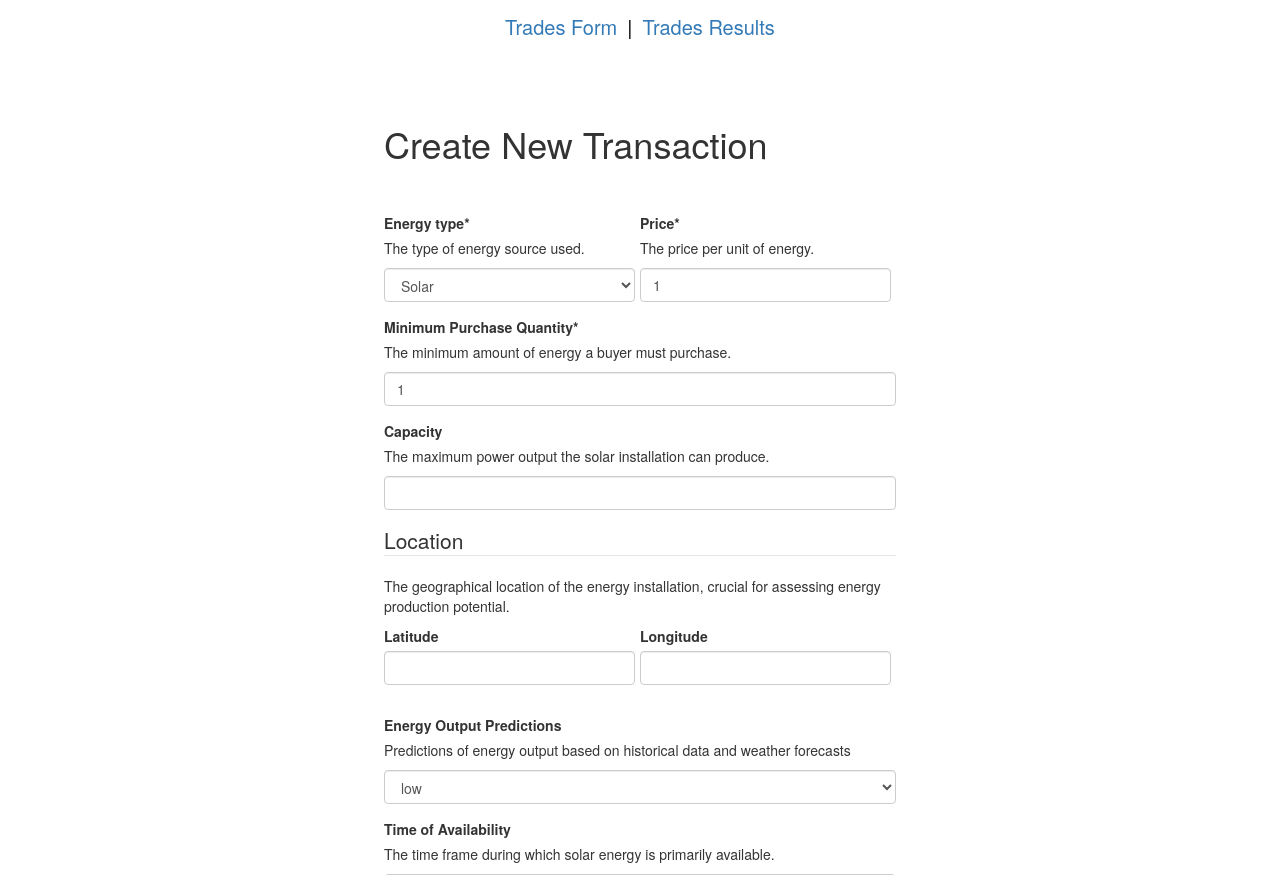
Test: <App /> › navigates to trades details route when '/trades/details/:id' is visited
Click the link "Trades Results" at {"x": 709, "y": 27}, box [642,12,775,41]
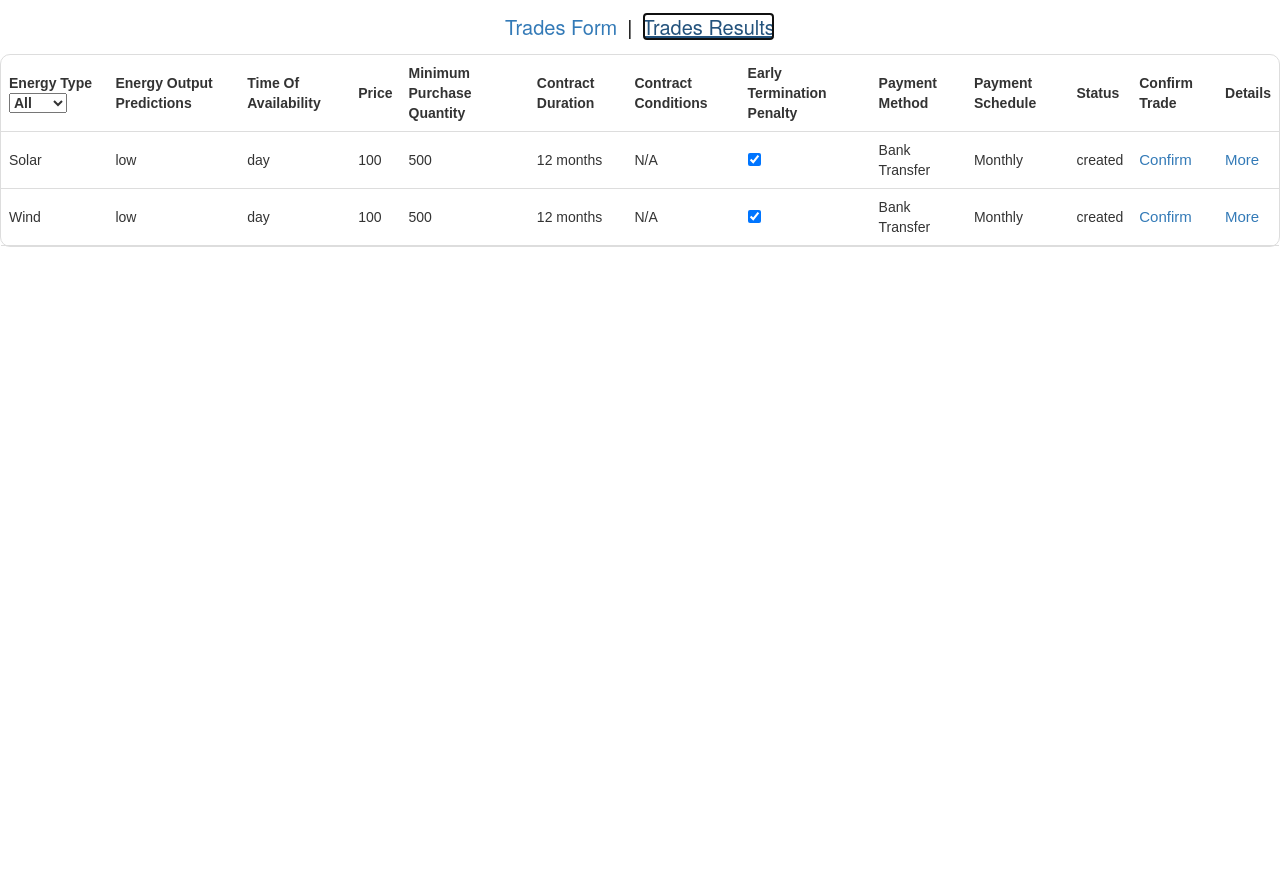
Click the link "More" in the row of "Solar" at {"x": 1242, "y": 159}, box [1225,151,1259,168]
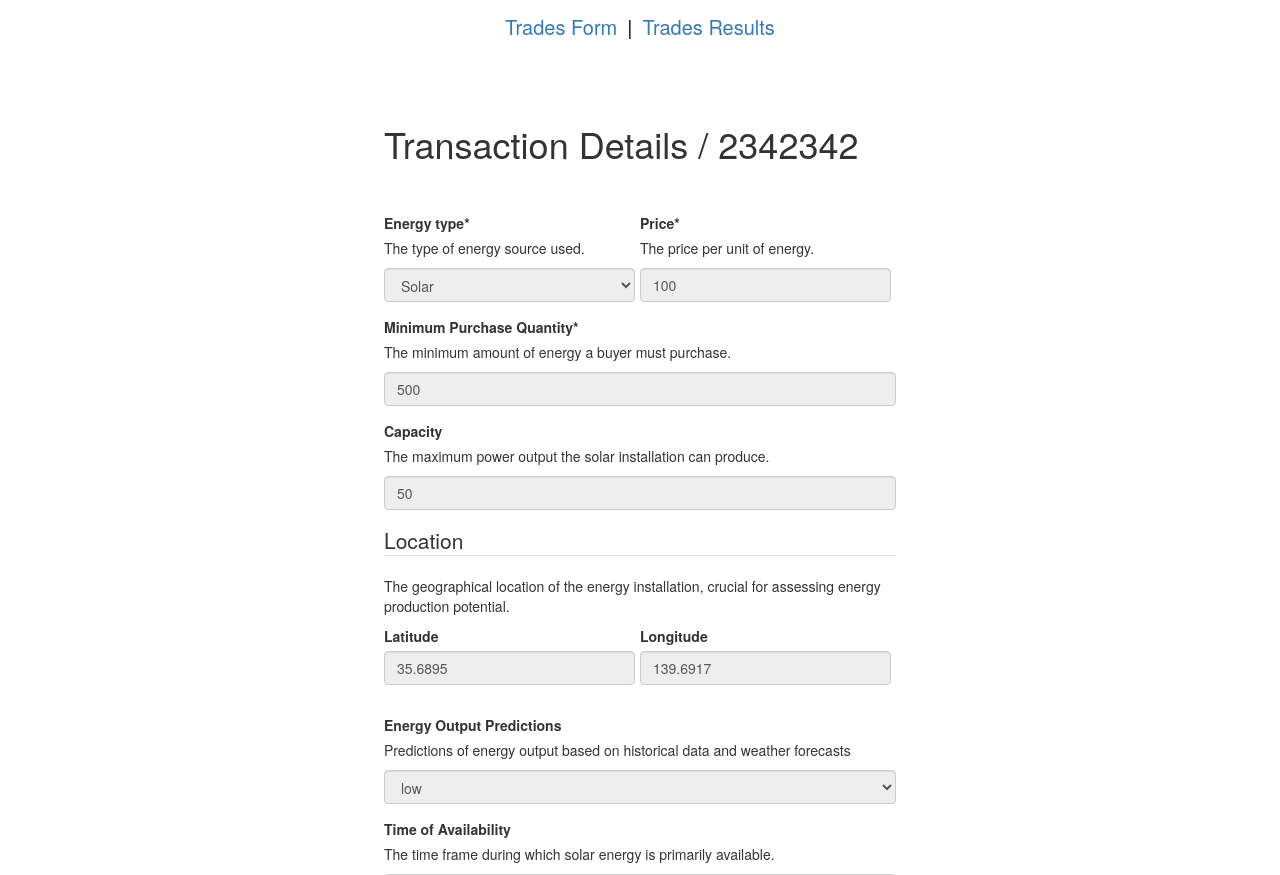
Expected: the heading "Transaction Details / 2342342" is shown, [384,124,896,163]
